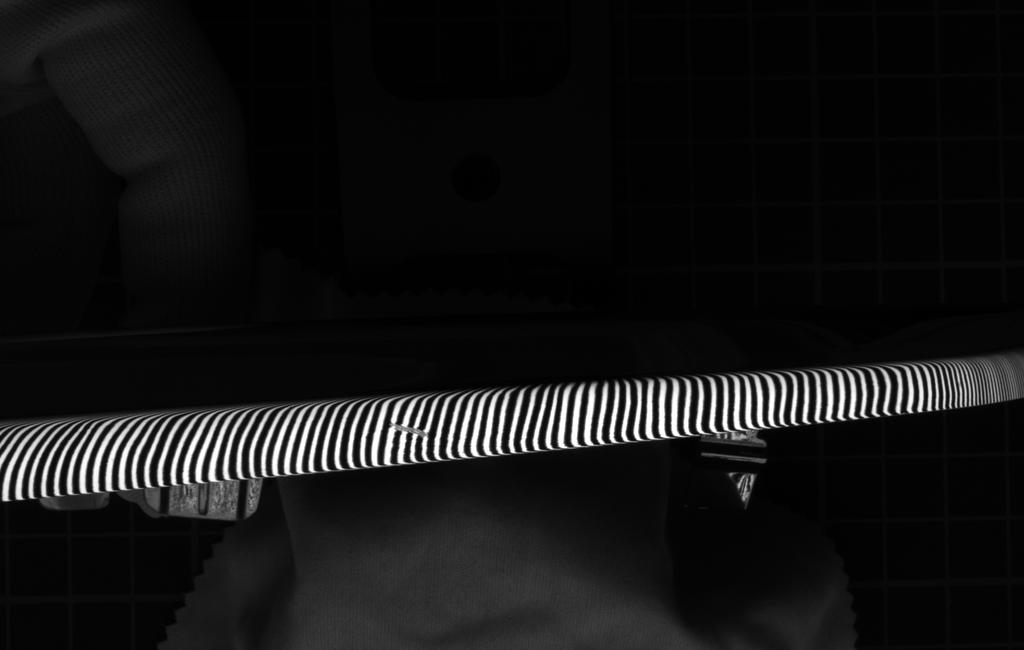Scratch: (374, 419, 444, 444)
